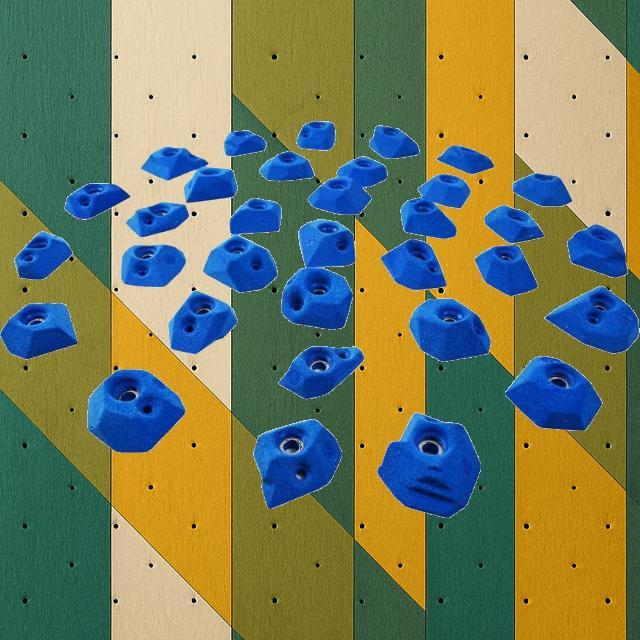Crimp: (376, 411, 482, 519), (251, 418, 343, 510), (87, 368, 187, 452), (504, 356, 606, 430), (544, 286, 640, 354), (409, 297, 491, 361), (278, 344, 364, 398), (168, 290, 238, 354), (281, 269, 353, 331), (203, 235, 279, 293), (0, 302, 78, 358), (380, 239, 448, 291), (566, 224, 628, 278), (474, 244, 538, 296), (13, 230, 72, 280), (120, 243, 186, 287), (298, 218, 356, 268), (64, 181, 130, 219), (125, 200, 189, 238), (307, 178, 371, 216), (484, 204, 544, 244), (400, 199, 458, 239), (140, 147, 208, 181), (182, 164, 238, 203), (511, 173, 573, 207), (228, 198, 282, 236), (436, 142, 494, 174), (418, 174, 472, 208), (368, 125, 419, 158), (337, 156, 388, 188), (260, 151, 314, 181), (223, 129, 267, 157), (296, 120, 336, 150)
